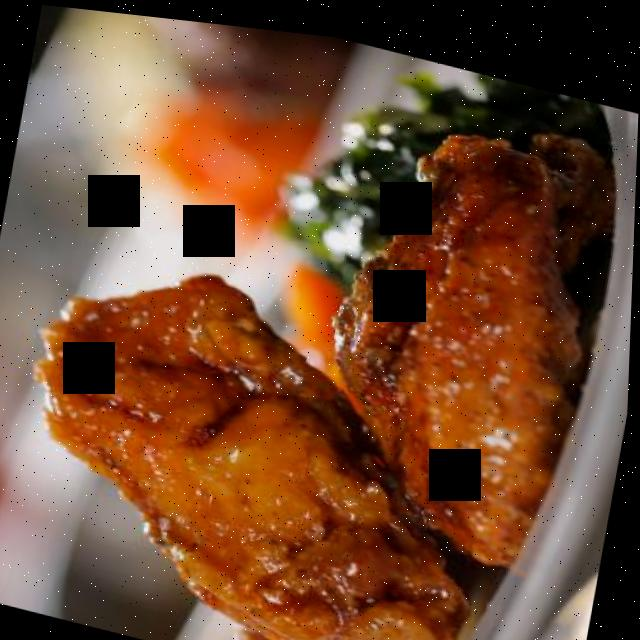Frango: (0, 6, 630, 640)
